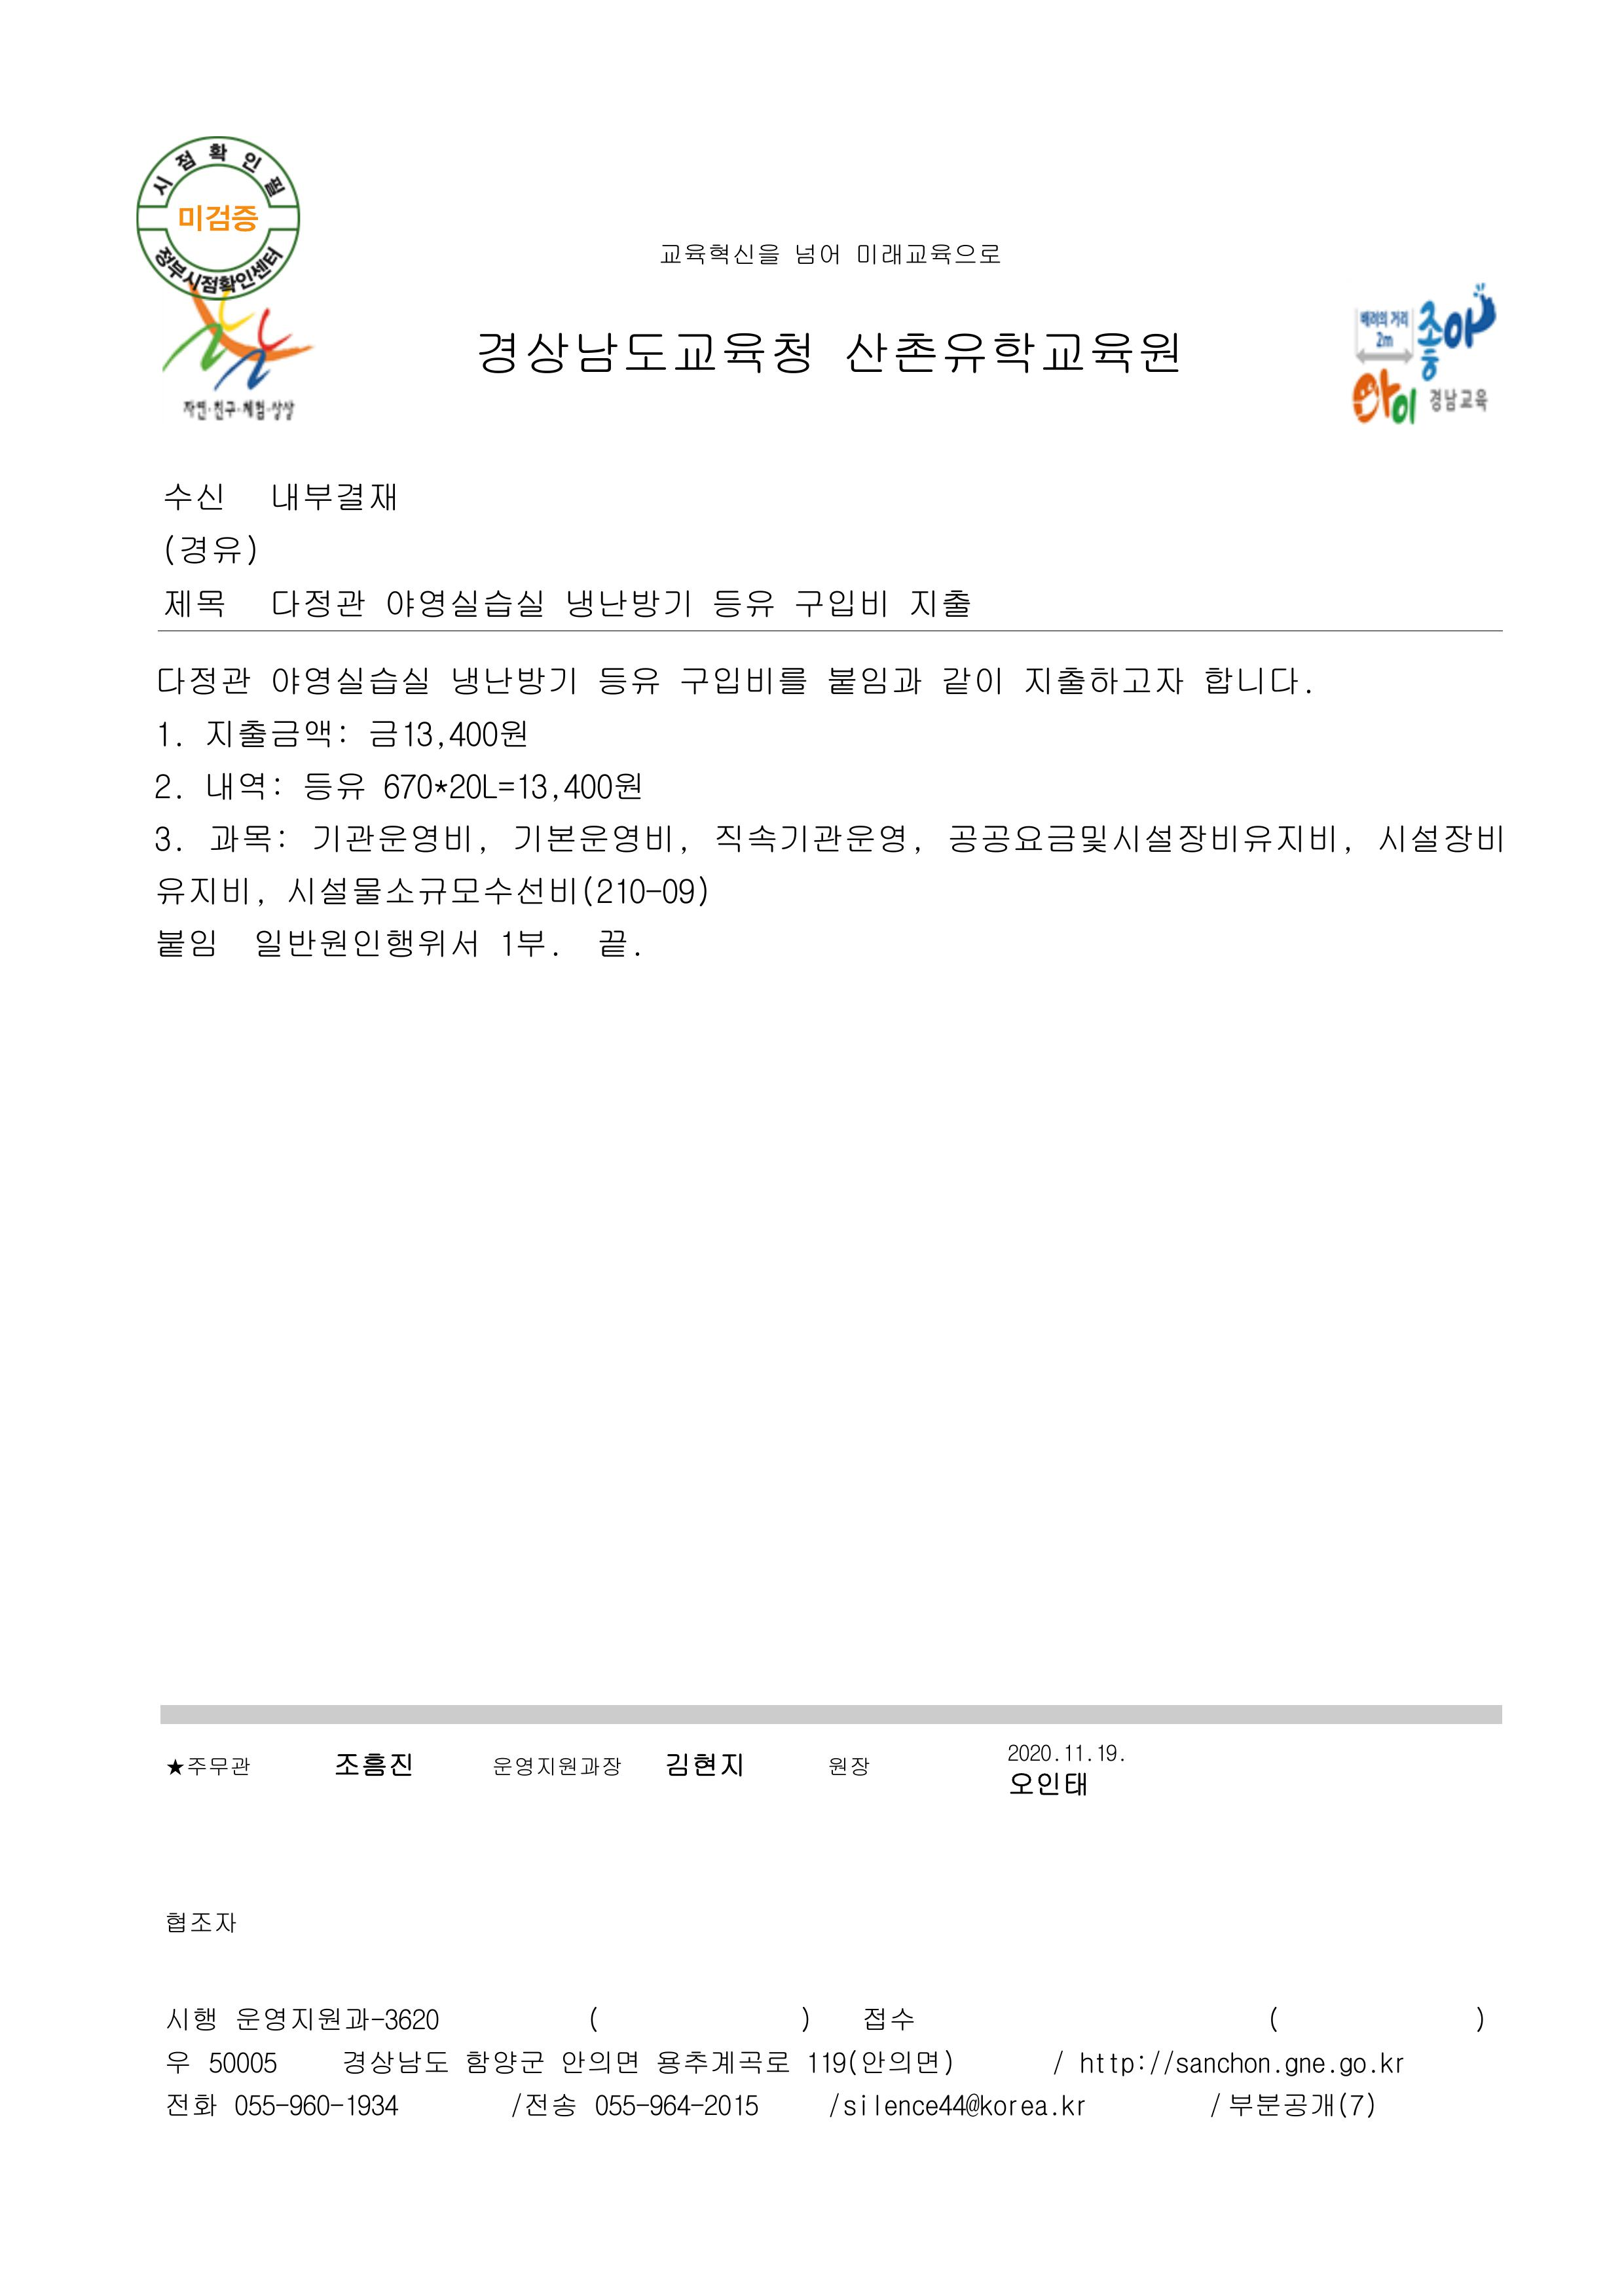t: (842, 327, 1183, 383), (473, 327, 814, 380), (286, 872, 710, 910), (946, 821, 1348, 856), (255, 924, 480, 961), (232, 2000, 441, 2037), (1410, 279, 1499, 362), (710, 821, 914, 856), (1018, 659, 1183, 699), (508, 821, 689, 856), (380, 766, 552, 803), (308, 821, 487, 856), (383, 583, 545, 620), (269, 662, 431, 699), (204, 713, 337, 754), (1225, 2088, 1378, 2123), (269, 476, 397, 517), (562, 583, 691, 624), (652, 2044, 793, 2079), (882, 2091, 1051, 2119), (448, 662, 576, 699), (678, 662, 807, 699), (803, 2047, 953, 2079), (1373, 821, 1506, 856), (1352, 369, 1424, 431), (1200, 662, 1306, 699), (156, 872, 265, 907), (490, 1754, 624, 1782), (162, 531, 258, 569), (824, 662, 924, 699), (852, 244, 1000, 269), (269, 583, 366, 620), (793, 583, 889, 620), (156, 662, 251, 699), (341, 2047, 452, 2079), (176, 200, 258, 237), (559, 766, 642, 803), (183, 397, 297, 424), (659, 244, 780, 269), (661, 1748, 745, 1784), (204, 766, 283, 803), (334, 1747, 417, 1782), (366, 717, 441, 754), (1162, 2051, 1272, 2075), (445, 717, 527, 749), (462, 2047, 545, 2079), (710, 583, 773, 624), (162, 583, 227, 620), (903, 583, 968, 620), (939, 662, 1004, 699), (301, 766, 366, 803), (596, 662, 659, 699), (155, 924, 218, 961), (207, 821, 276, 854), (506, 2088, 576, 2119), (165, 1907, 239, 1937), (1424, 383, 1489, 416), (204, 2047, 279, 2075), (165, 480, 227, 513), (499, 924, 552, 961), (1079, 2049, 1149, 2075), (700, 2089, 761, 2119), (341, 2089, 401, 2119), (169, 1757, 251, 1778), (228, 2089, 279, 2119), (645, 2089, 696, 2119), (165, 2005, 218, 2033), (596, 924, 634, 961), (286, 2095, 344, 2119), (591, 2089, 638, 2119), (824, 2089, 872, 2119), (165, 2095, 221, 2119), (863, 2007, 914, 2033), (562, 2051, 613, 2075), (796, 244, 842, 269), (1283, 2054, 1327, 2079), (1007, 1743, 1055, 1764), (828, 1757, 872, 1778), (1035, 1771, 1065, 1799), (1062, 1768, 1090, 1796), (613, 2047, 642, 2075), (1338, 2054, 1369, 2079), (156, 773, 179, 803), (1058, 2096, 1086, 2119), (155, 824, 176, 854), (1378, 2054, 1406, 2075), (156, 724, 179, 749), (1011, 1775, 1035, 1796), (169, 2051, 190, 2075), (1097, 1743, 1118, 1764), (1420, 358, 1438, 383), (1062, 1747, 1086, 1764)
